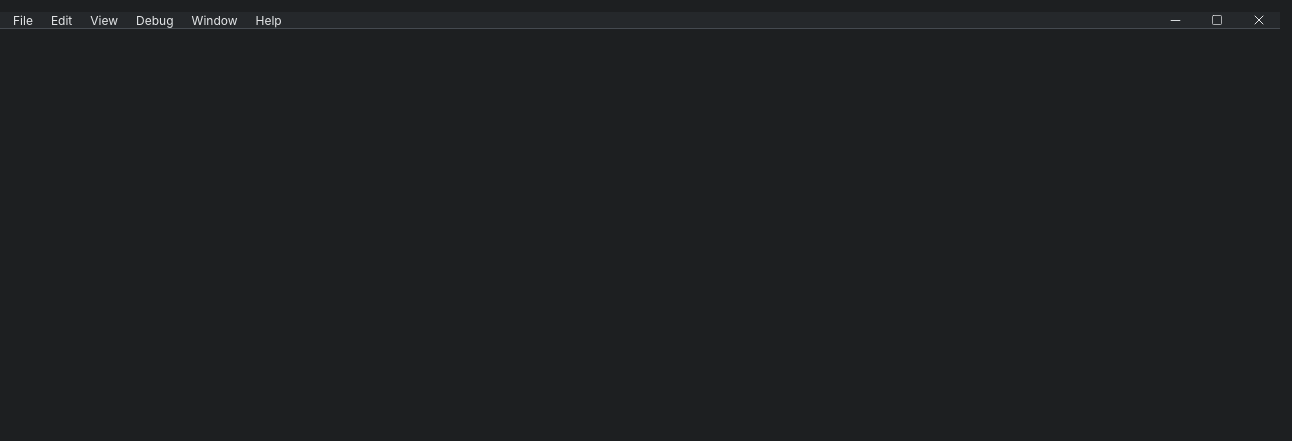
Scenario: MenuBar › drops the restart entry altogether once the app is already elevated
Step 1. Click the menu item "File" → (23, 20), box [4,12,42,28]
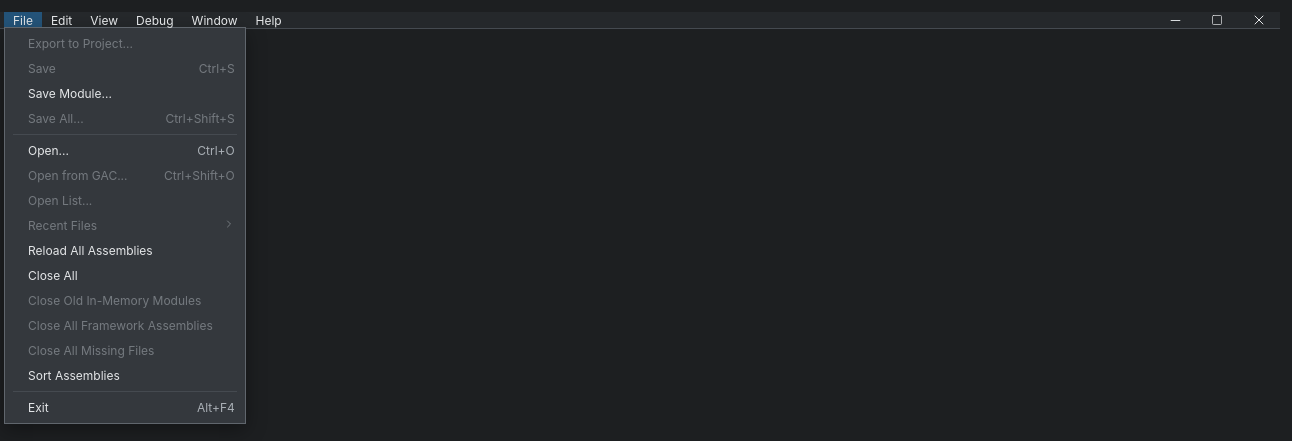
Expected: the menu item "Exit Alt+F4" is enabled, [8,395,242,420]
